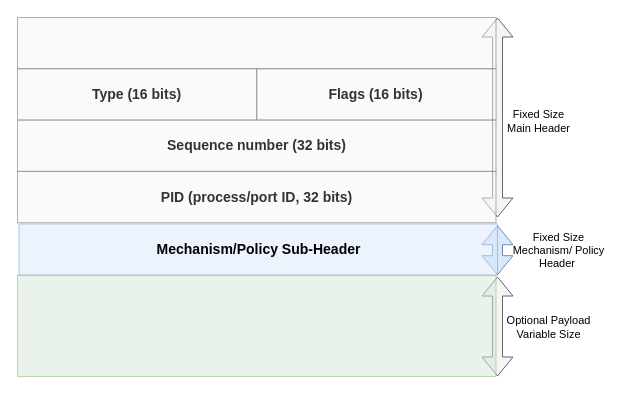
This 621x394 diagram has some shape labels left out. Here are the shapes that lost their labels. From the top down, the centre of each, then its label:
[256,42]: Length (32 bits)
[256,325]: Mechanism/Policy Payload in TLVs
